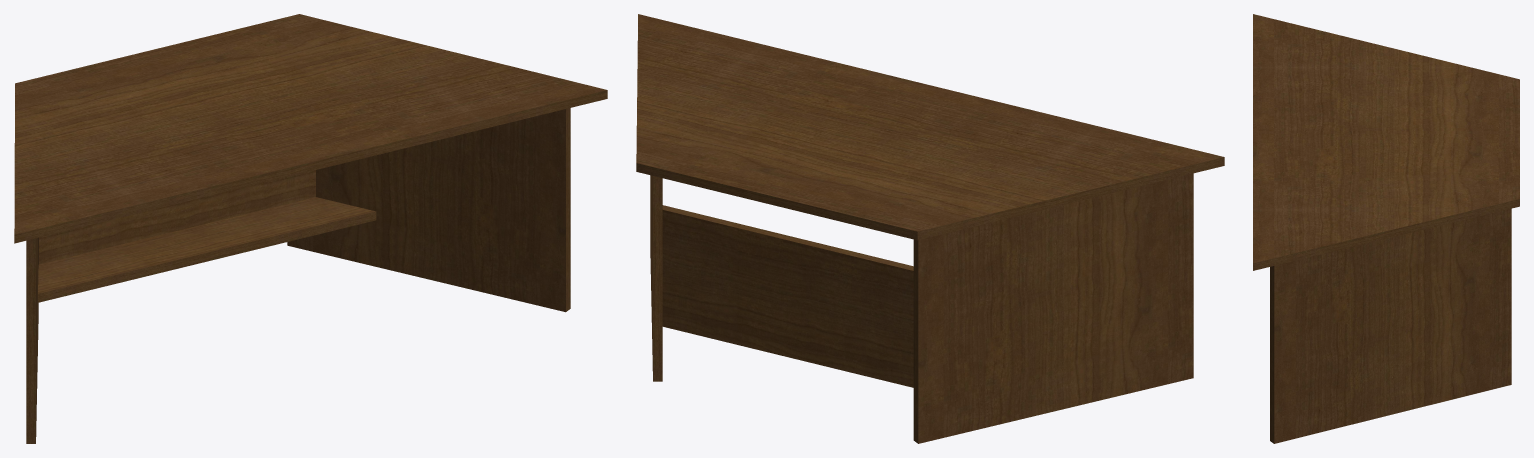
The model's file is desk.obj.
3 views of the same model, side by side, from view 1: azimuth 30°, elevation 25°; view 2: azimuth 150°, elevation 25°; view 3: azimuth 270°, elevation 25° (orthographic). The views are drawn at different scales.
Visible parts, largest first — view 1: Rectangle2, Rectangle4, Rectangle1, Rectangle0, Rectangle3; view 2: Rectangle2, Rectangle3, Rectangle0, Rectangle4; view 3: Rectangle2, Rectangle4.
Part boxes in pixels (<box>): Rectangle2: <box>14,14,607,243</box>; Rectangle4: <box>287,108,570,312</box>; Rectangle1: <box>38,197,376,302</box>; Rectangle0: <box>38,170,315,264</box>; Rectangle3: <box>26,237,38,443</box>; Rectangle2: <box>636,14,1224,240</box>; Rectangle3: <box>913,173,1193,443</box>; Rectangle0: <box>662,205,913,387</box>; Rectangle4: <box>650,175,662,381</box>; Rectangle2: <box>1253,14,1519,270</box>; Rectangle4: <box>1270,208,1511,443</box>.
Size of the model in its own units: 9.45 by 3.38 by 4.28.
